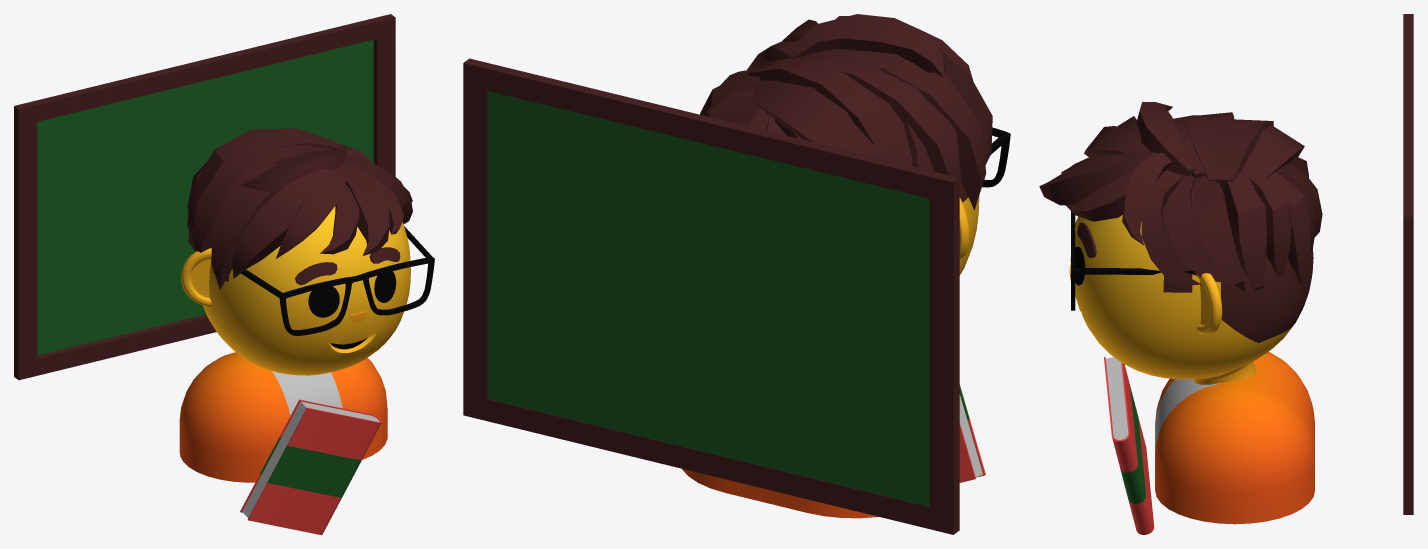
The model's file is teacher.glb.
3 views of the same model, side by side, from view 1: azimuth 30°, elevation 25°; view 2: azimuth 150°, elevation 25°; view 3: azimuth 270°, elevation 25° (orthographic). The views are drawn at different scales.
Parts seen in each view (by area): view 1: Plane.034, Cube.1001, Roundcube.081, Sphere.040, Cube.1009, Plane.032, Circle.566, Cylinder.073, Circle.568; view 2: Plane.034, Cube.1001, Sphere.040, Cube.1009, Plane.032, Roundcube.081; view 3: Cube.1001, Sphere.040, Roundcube.081, Plane.034, Cube.1009, Cylinder.073, Plane.032.
Part boxes in pixels (x1,y1,x2,y2): Plane.034: [14, 14, 395, 380]; Cube.1001: [187, 128, 412, 289]; Roundcube.081: [203, 206, 410, 375]; Sphere.040: [179, 352, 387, 482]; Cube.1009: [240, 399, 381, 534]; Plane.032: [241, 226, 434, 335]; Circle.566: [308, 271, 396, 317]; Cylinder.073: [181, 248, 211, 306]; Circle.568: [295, 247, 400, 285]; Plane.034: [463, 58, 959, 534]; Cube.1001: [700, 14, 992, 210]; Sphere.040: [682, 469, 878, 518]; Cube.1009: [959, 384, 985, 482]; Plane.032: [982, 127, 1010, 187]; Roundcube.081: [959, 182, 979, 275]; Cube.1001: [1039, 102, 1322, 292]; Sphere.040: [1155, 351, 1314, 524]; Roundcube.081: [1070, 171, 1313, 384]; Plane.034: [1403, 14, 1413, 514]; Cube.1009: [1104, 357, 1154, 534]; Cylinder.073: [1196, 273, 1222, 334]; Plane.032: [1071, 211, 1196, 310].
Size of the model in its own units: 2.99 by 2.9 by 2.34.
2 materials, 2 textured.
